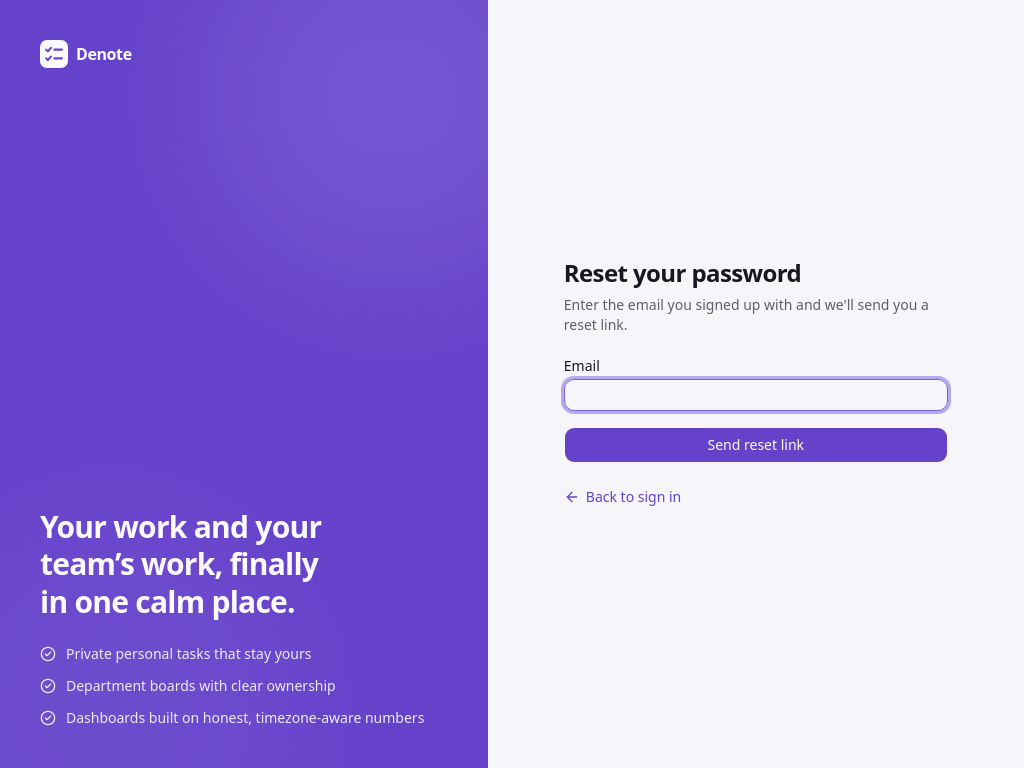
Test: password reset › confirms the request without revealing whether the account exists
Type "someone@example.com" into the field labelled "Email" at (756, 395), box [564,379,948,411]
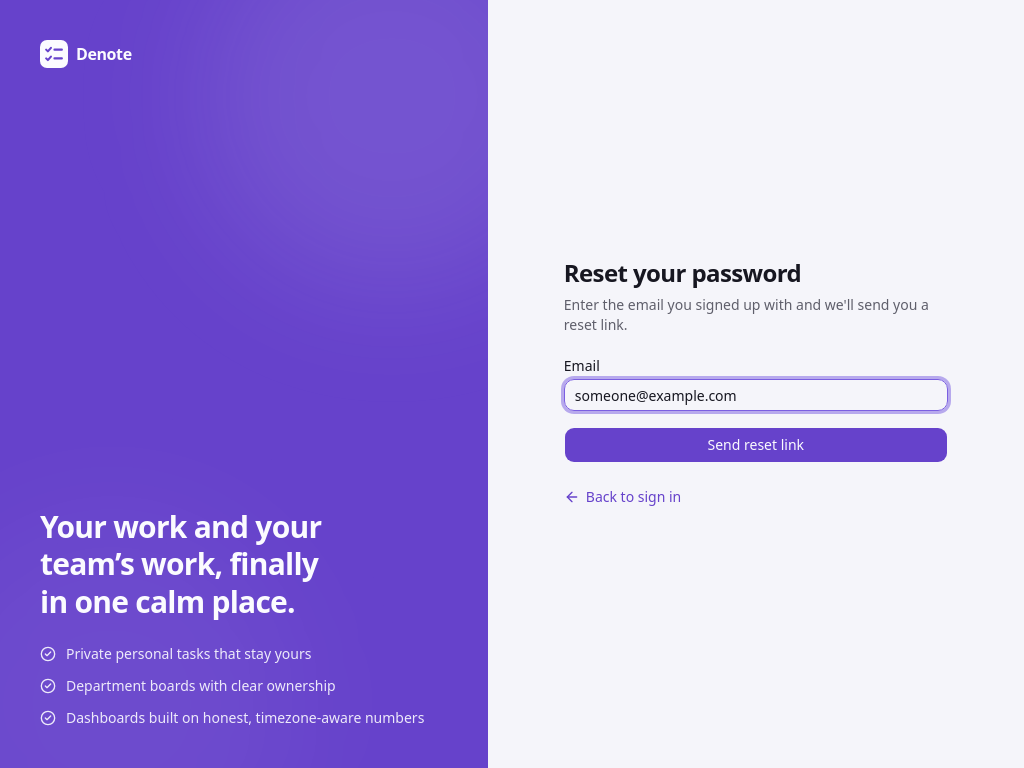
Click the button "Send reset link" at (756, 445), box [564,427,948,463]
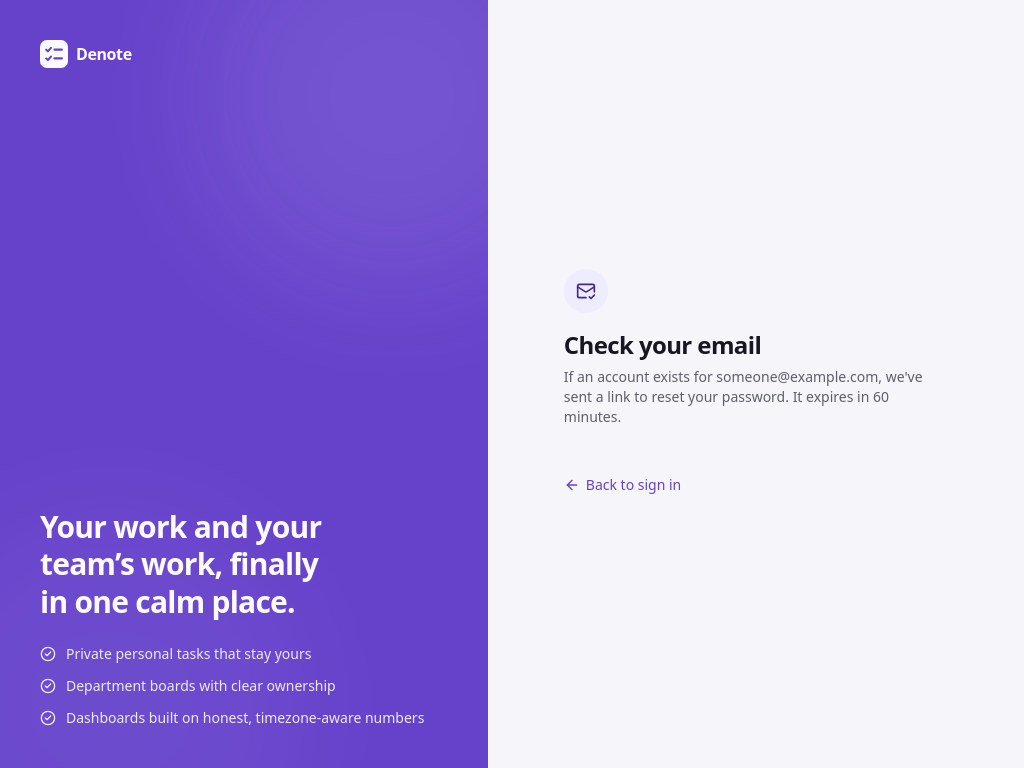
Now the heading "Check your email" is shown, box [564,328,761,361]
